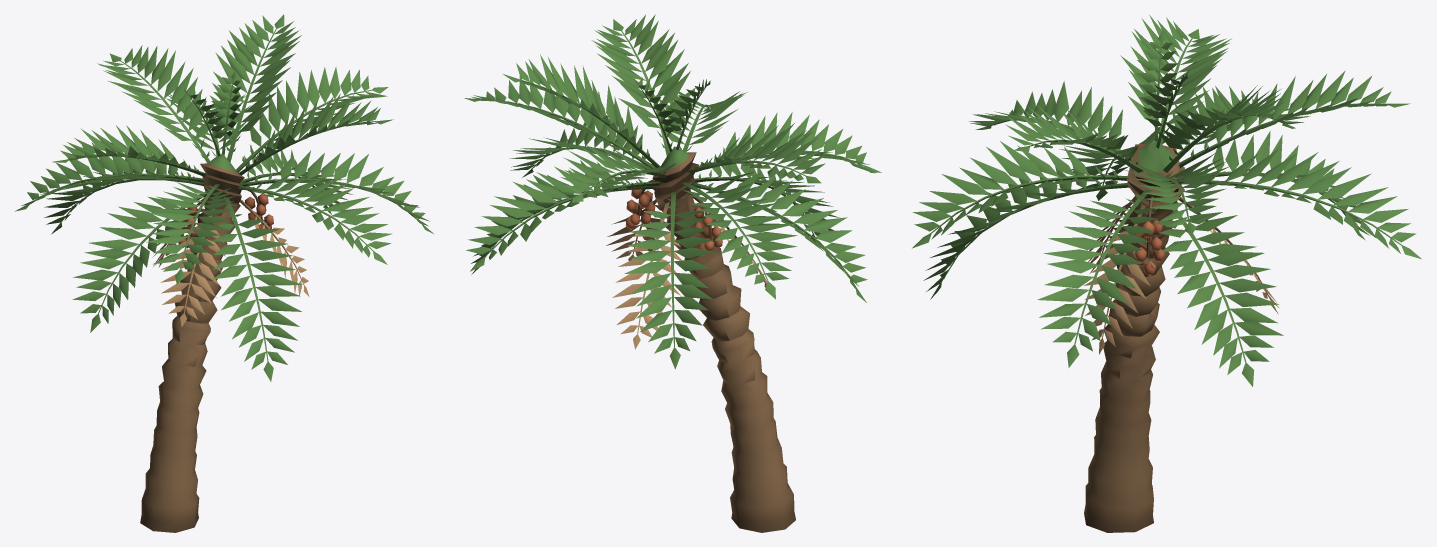
File: palm_date_b.fbx
3 renders of one model, left to right at view 1: azimuth 30°, elevation 25°; view 2: azimuth 150°, elevation 25°; view 3: azimuth 270°, elevation 25°, orthographic. The views are drawn at different scales.
Visible parts, largest first — view 1: palm_date_b; view 2: palm_date_b; view 3: palm_date_b.
Part boxes in pixels (<box>): palm_date_b: <box>15,14,434,532</box>; palm_date_b: <box>464,14,881,532</box>; palm_date_b: <box>912,15,1421,532</box>.
Bounding box in the file's own units: 5.3 × 6.19 × 5.58.
